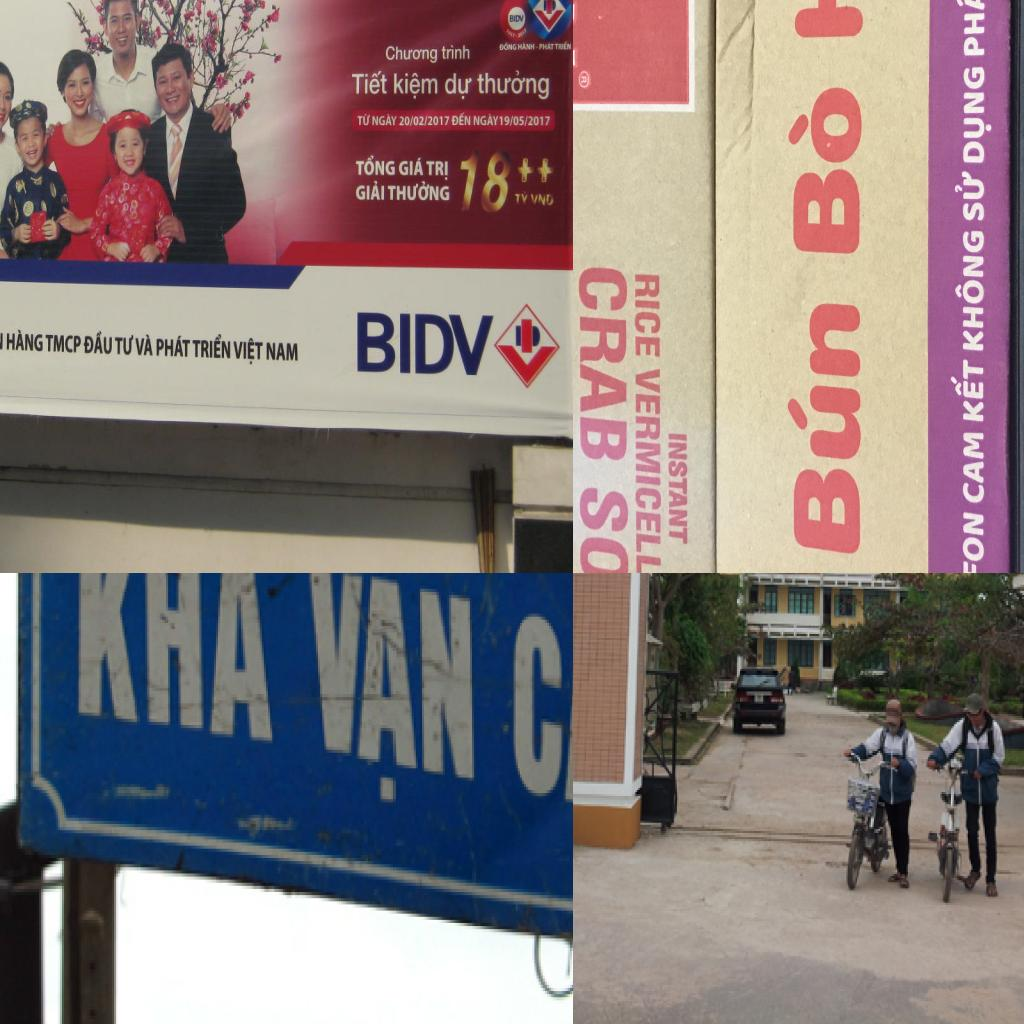text: (305, 573, 478, 821), (74, 573, 278, 749), (785, 298, 861, 558), (785, 84, 862, 254), (350, 308, 498, 382), (578, 266, 628, 462), (635, 368, 662, 573), (578, 482, 632, 573), (454, 148, 518, 222), (954, 228, 986, 352), (962, 65, 992, 164), (476, 69, 552, 103), (633, 273, 661, 358), (950, 357, 985, 423), (668, 432, 688, 546), (950, 0, 986, 57), (954, 167, 985, 222), (391, 68, 439, 101), (962, 432, 984, 504), (386, 182, 452, 204), (962, 510, 984, 573), (352, 150, 397, 180), (349, 66, 388, 99), (43, 326, 82, 358), (442, 66, 473, 106), (383, 43, 439, 65), (192, 330, 232, 360), (499, 112, 557, 132), (154, 330, 192, 360), (263, 336, 301, 366), (4, 324, 44, 352), (230, 335, 264, 365), (398, 114, 452, 130), (350, 180, 386, 202), (81, 328, 113, 351), (438, 43, 473, 64), (530, 188, 556, 216), (426, 154, 450, 184), (397, 154, 425, 177), (114, 330, 134, 356), (134, 330, 154, 356), (372, 110, 400, 128), (451, 111, 474, 130), (474, 112, 500, 128), (513, 188, 530, 210), (355, 112, 373, 128), (516, 40, 536, 54), (506, 11, 524, 25), (537, 40, 555, 54), (499, 41, 517, 54), (580, 75, 588, 84)
